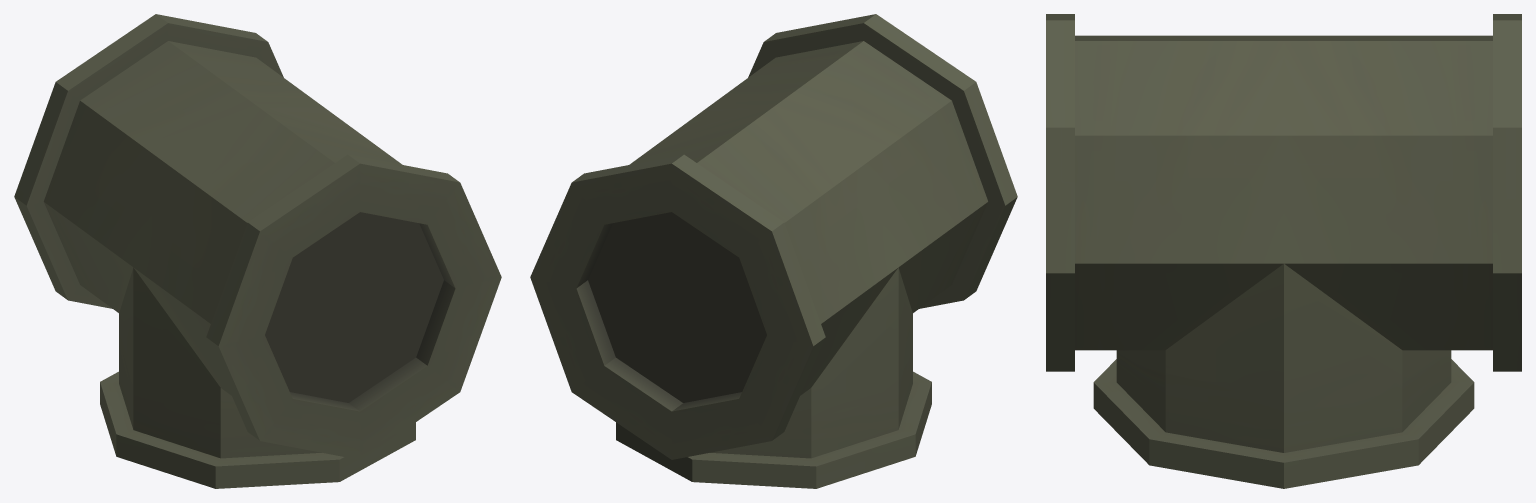
File: SM_EN_Pipe_3.fbx
The picture shows the model from 3 angles, left to right: view 1: azimuth 30°, elevation 25°; view 2: azimuth 150°, elevation 25°; view 3: azimuth 270°, elevation 25°; orthographic projection. The views are drawn at different scales.
Visible parts, largest first — view 1: SM_EN_Pipe_3; view 2: SM_EN_Pipe_3; view 3: SM_EN_Pipe_3.
Part boxes in pixels (box(x1,y1,x2,y2)): SM_EN_Pipe_3: box(14, 14, 501, 488); SM_EN_Pipe_3: box(530, 14, 1017, 488); SM_EN_Pipe_3: box(1046, 14, 1521, 488).
Bounding box in the file's own units: 80 × 100 × 90.
